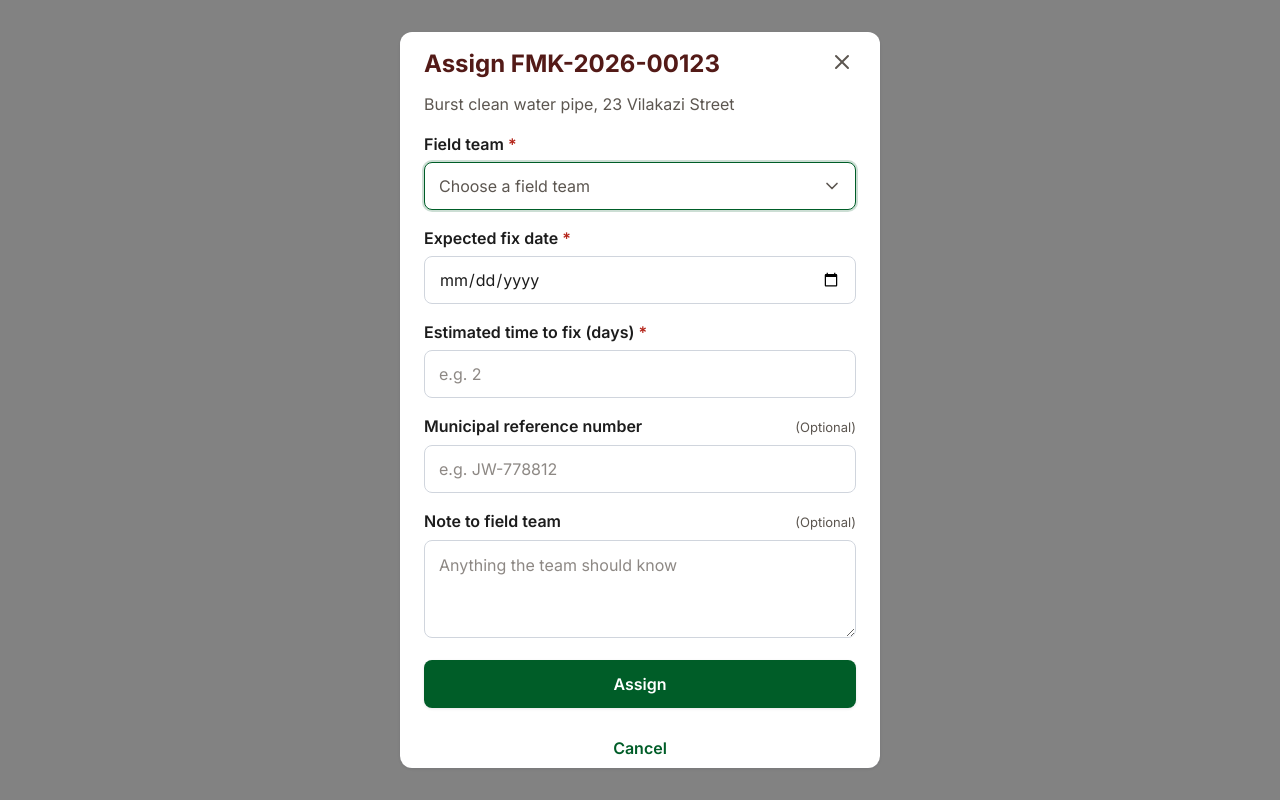
Scenario: M2 Assign Fault › shows the PRD errors when Assign is tapped on an empty form
Click the button "Assign" at (640, 684), box [424,660,856,708]
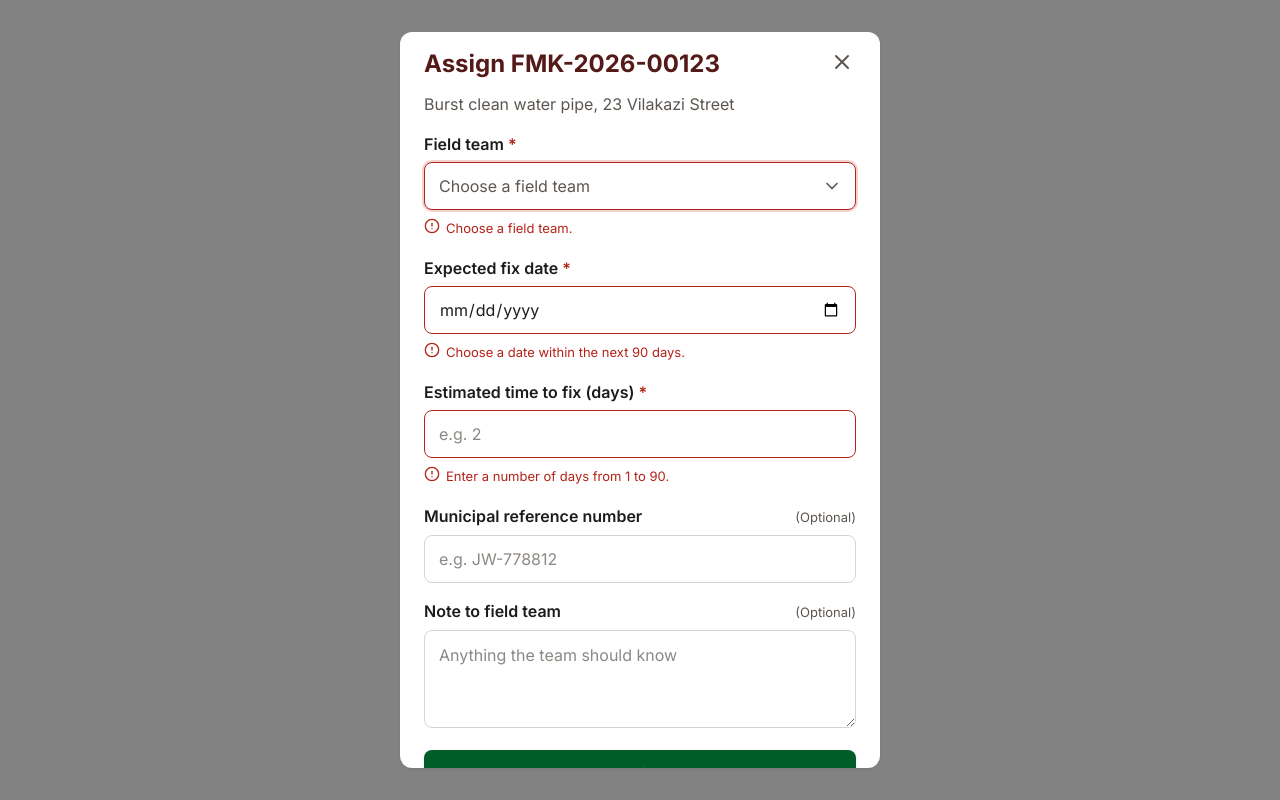
Expected: the text "Choose a field team." is shown, [446,216,572,240]
Expected: the text "Choose a date within the next 90 days." is shown, [446,340,685,364]
Expected: the text "Enter a number of days from 1 to 90." is shown, [446,464,669,488]
